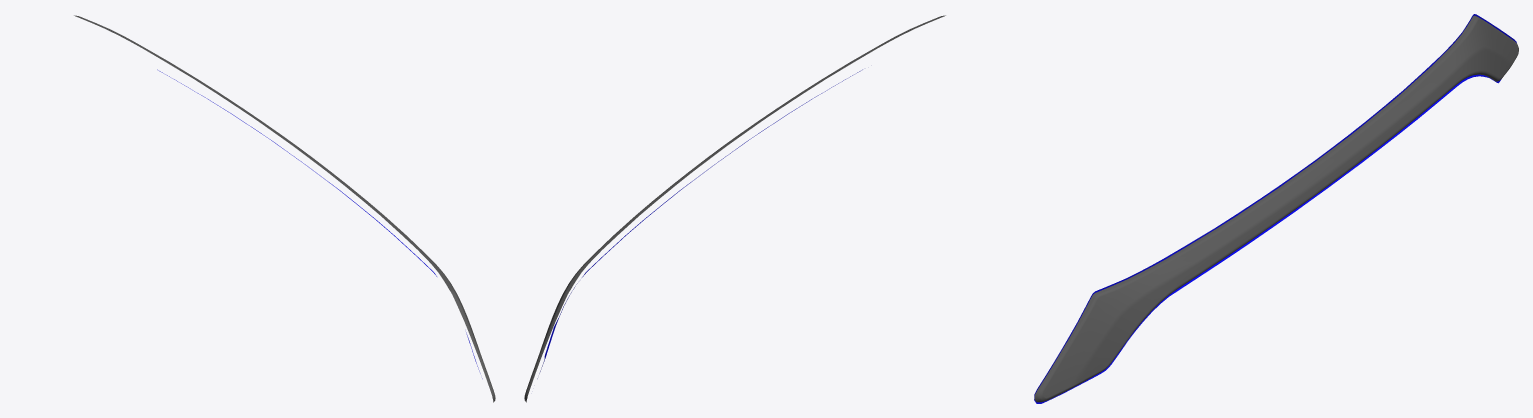
Rendered from NISSAN_MAGNITE_EX_ACC_MT_CVT_XVP_XV_XL_XE_BOOTGARNISH_MESH.glb.
The picture shows the model from 3 angles, left to right: view 1: azimuth 30°, elevation 25°; view 2: azimuth 150°, elevation 25°; view 3: azimuth 330°, elevation 25°; orthographic projection.
Visible parts, largest first — view 1: NISSAN_MAGNITE_EX_ACC_MT_CVT_XVP_XV_XL_XE_BOOTGARNISH_MESH; view 2: NISSAN_MAGNITE_EX_ACC_MT_CVT_XVP_XV_XL_XE_BOOTGARNISH_MESH; view 3: NISSAN_MAGNITE_EX_ACC_MT_CVT_XVP_XV_XL_XE_BOOTGARNISH_MESH.
Part boxes in pixels (x1,y1,x2,y2): NISSAN_MAGNITE_EX_ACC_MT_CVT_XVP_XV_XL_XE_BOOTGARNISH_MESH: (74, 15, 495, 402); NISSAN_MAGNITE_EX_ACC_MT_CVT_XVP_XV_XL_XE_BOOTGARNISH_MESH: (524, 15, 945, 402); NISSAN_MAGNITE_EX_ACC_MT_CVT_XVP_XV_XL_XE_BOOTGARNISH_MESH: (1034, 14, 1518, 403).
Size of the model in its own units: 0.0636 by 0.0887 by 0.9921.
